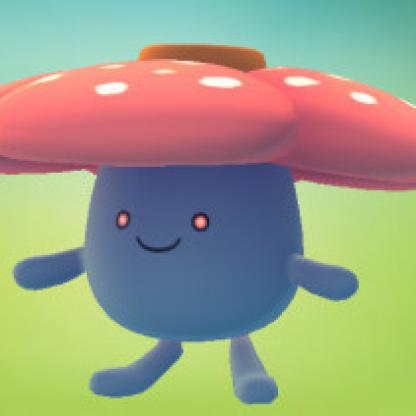Vileplume: (1, 40, 415, 413)
